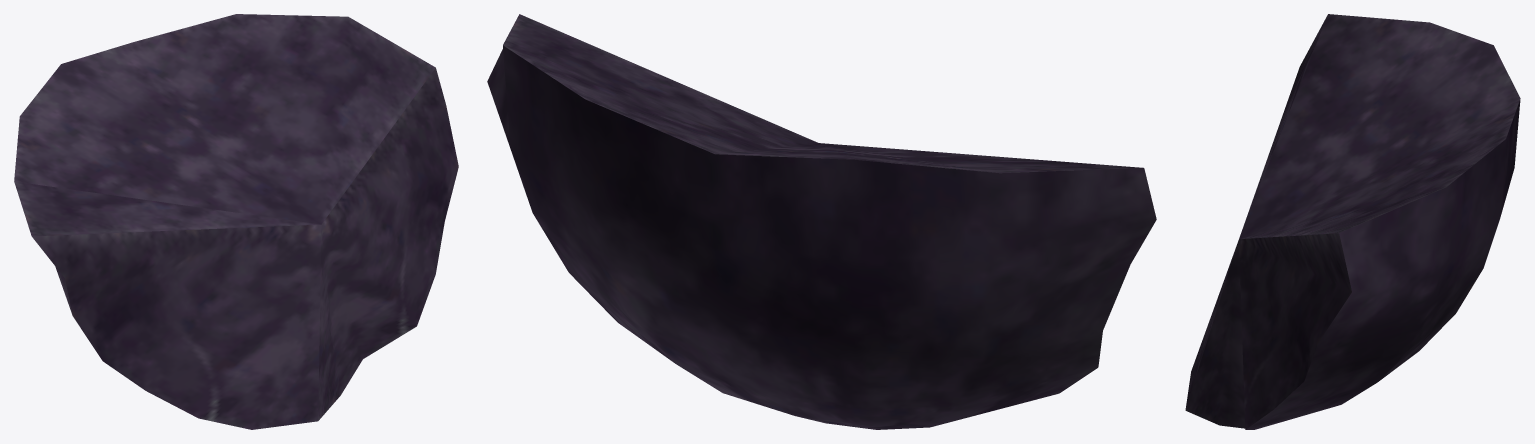
Rendered from orbpiece_indigo.dae.
3 views of the same model, side by side, from view 1: azimuth 30°, elevation 25°; view 2: azimuth 150°, elevation 25°; view 3: azimuth 270°, elevation 25° (orthographic). The views are drawn at different scales.
Visible parts, largest first — view 1: orb2; view 2: orb2; view 3: orb2.
Boxes of the visible parts, left/top/right/bottom form: orb2: left=14, top=14, right=458, bottom=429; orb2: left=487, top=14, right=1156, bottom=429; orb2: left=1185, top=14, right=1520, bottom=429.
Bounding box in the file's own units: 0.3605 × 0.2199 × 0.2178.
